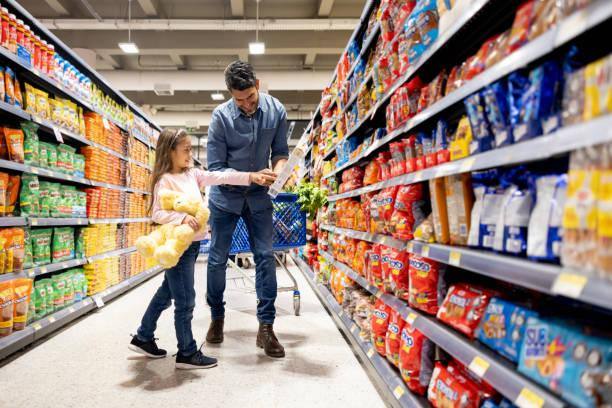Person: (129, 129, 273, 368), (206, 61, 287, 357)
article: (518, 317, 611, 407), (527, 174, 566, 260), (269, 136, 305, 197), (409, 254, 445, 314), (13, 278, 33, 330), (20, 173, 37, 215)
